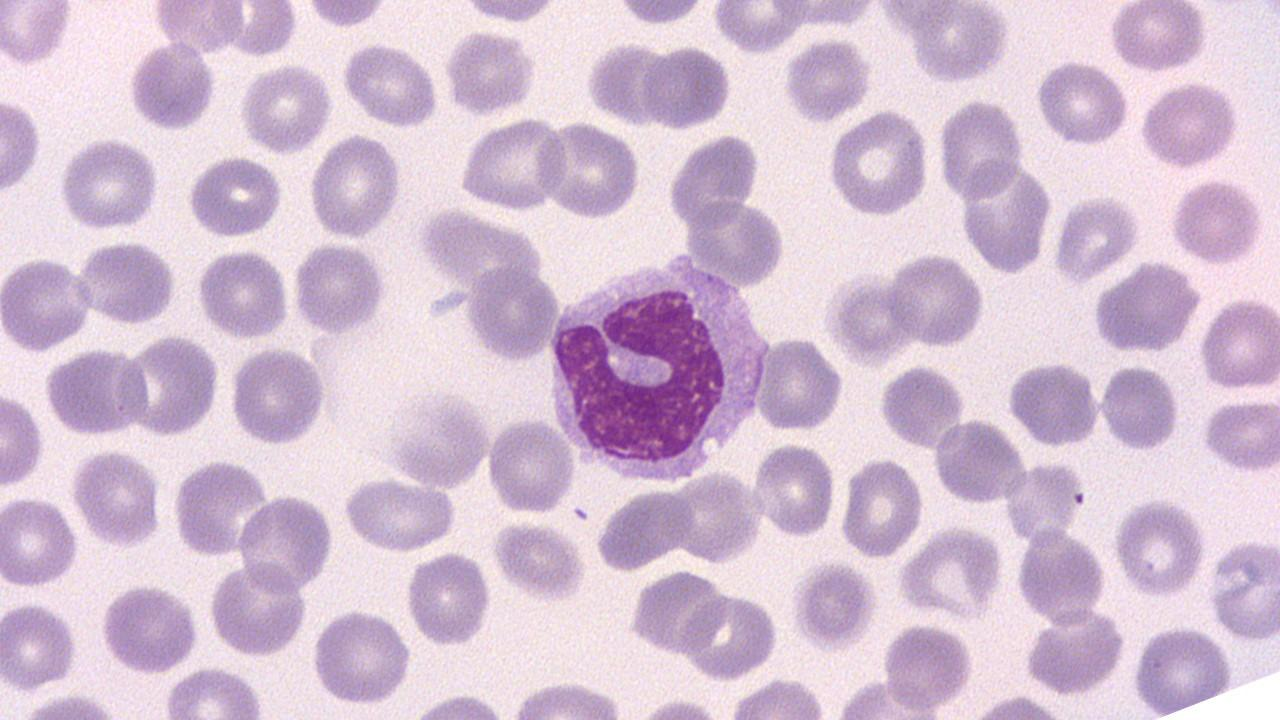RBC: (825, 106, 929, 220), (378, 390, 493, 488), (457, 112, 568, 212), (1088, 261, 1202, 358), (536, 118, 640, 222), (118, 331, 219, 438), (307, 606, 414, 707), (894, 525, 1004, 623), (235, 490, 338, 594), (956, 162, 1054, 271), (307, 132, 403, 242), (173, 454, 272, 560), (226, 346, 328, 447), (55, 136, 161, 232), (1012, 524, 1110, 627), (1018, 608, 1130, 698), (681, 197, 790, 288), (208, 560, 310, 657), (884, 252, 987, 348), (1111, 494, 1205, 598), (668, 467, 766, 566), (463, 265, 563, 362), (97, 582, 201, 675), (664, 131, 761, 230), (1138, 78, 1242, 170), (1130, 624, 1236, 714), (290, 239, 390, 334), (678, 589, 779, 683), (44, 344, 145, 438), (1166, 175, 1270, 266), (0, 254, 95, 353), (626, 568, 730, 658), (237, 62, 336, 156), (936, 97, 1024, 202), (753, 334, 847, 432), (70, 448, 162, 548), (485, 416, 577, 516), (194, 246, 289, 342), (77, 238, 180, 326), (838, 455, 924, 560), (403, 549, 494, 648), (826, 268, 916, 368), (339, 40, 440, 128), (1006, 358, 1103, 449), (907, 2, 1011, 86), (125, 39, 218, 132), (932, 416, 1026, 508), (878, 358, 968, 454), (1052, 191, 1142, 287), (440, 30, 538, 118), (1033, 58, 1131, 146), (342, 476, 455, 552), (183, 153, 284, 238), (489, 520, 590, 604), (880, 622, 974, 712), (752, 440, 836, 540), (781, 35, 873, 126), (639, 43, 733, 132), (790, 558, 878, 653), (1198, 293, 1280, 394), (583, 37, 670, 129), (0, 492, 80, 588), (1106, 0, 1210, 73), (1207, 534, 1277, 642), (1, 599, 80, 693), (1003, 457, 1085, 547), (1098, 362, 1180, 452), (1201, 396, 1279, 474), (159, 665, 268, 716), (710, 1, 806, 55), (0, 1, 76, 68), (151, 0, 246, 52), (0, 389, 46, 488), (0, 94, 44, 197), (872, 0, 964, 37), (608, 0, 712, 28), (299, 0, 394, 29), (454, 0, 564, 25)
WBC: (544, 248, 775, 489)
